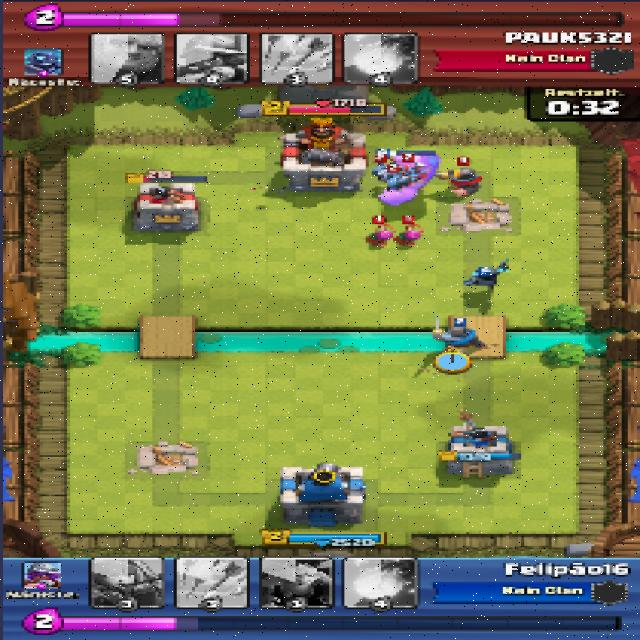Enemy-Archer: (395, 224, 426, 246), (365, 223, 392, 245)
Enemy-Knight: (438, 166, 482, 195)
Enemy-Minion: (382, 173, 405, 190), (369, 162, 391, 176), (399, 168, 418, 182)
Player-Giant: (376, 146, 436, 203)
Player-Knight: (425, 324, 488, 353)
Player-MiniPEKKA: (461, 262, 512, 290)
